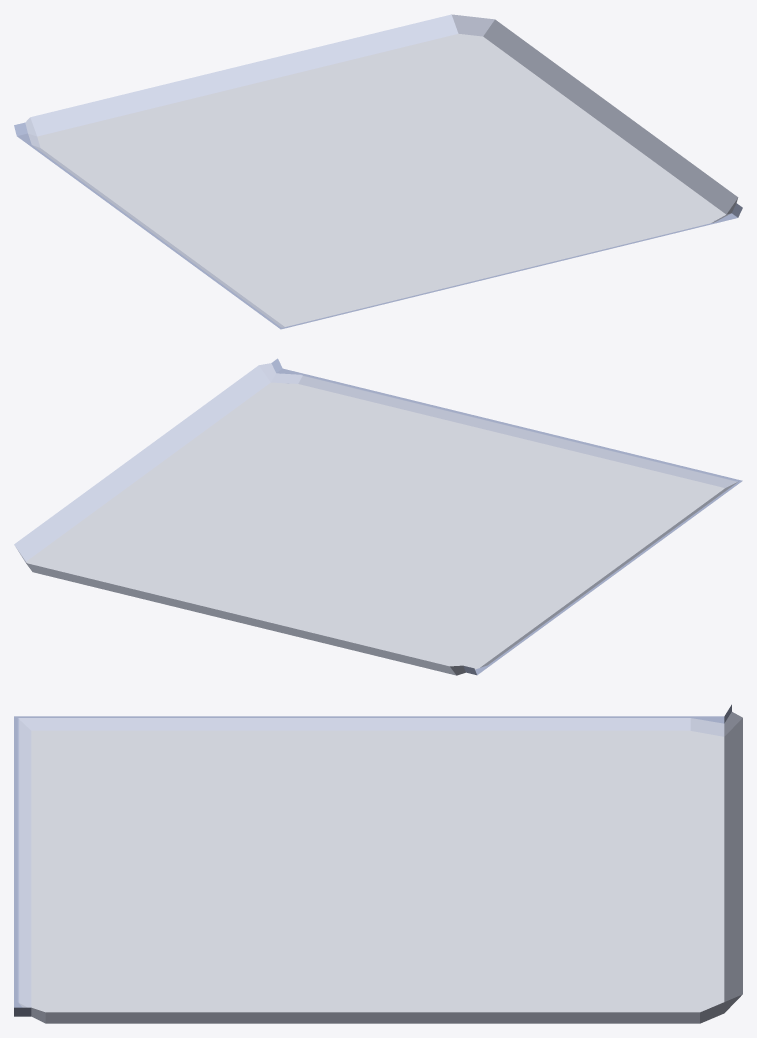
File: Tile_Ceiling_Corner_Out_Cap.fbx
3 renders of one model, top to bottom at view 1: azimuth 30°, elevation 25°; view 2: azimuth 150°, elevation 25°; view 3: azimuth 270°, elevation 25°, orthographic. The views are drawn at different scales.
Visible parts, largest first — view 1: Tile_Floor_CornerIN_Cap1; view 2: Tile_Floor_CornerIN_Cap1; view 3: Tile_Floor_CornerIN_Cap1.
Boxes of the visible parts, x1,y1,x2,y2 form: Tile_Floor_CornerIN_Cap1: (14,14,742,329); Tile_Floor_CornerIN_Cap1: (14,358,742,675); Tile_Floor_CornerIN_Cap1: (14,704,742,1023).
Bounding box in the file's own units: 203 × 5.9 × 203.
1 material, 1 textured.
